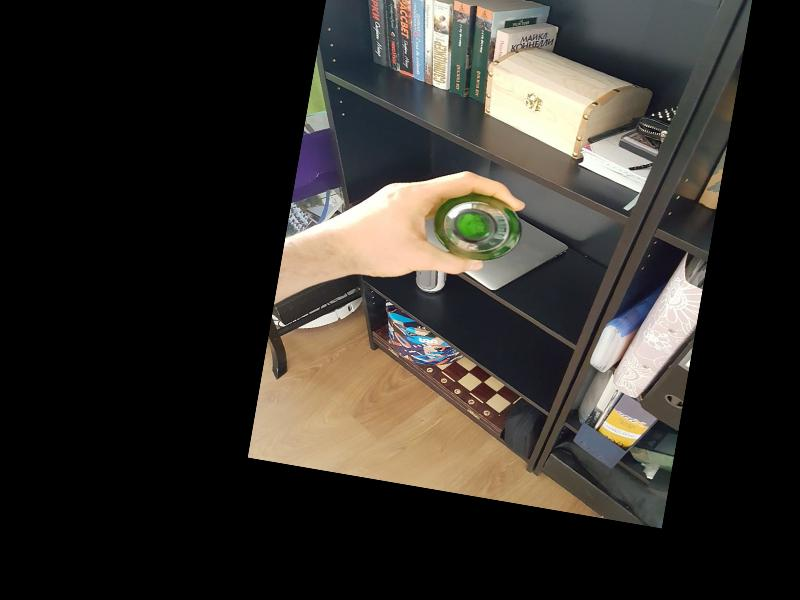Beer: (430, 188, 521, 267)
